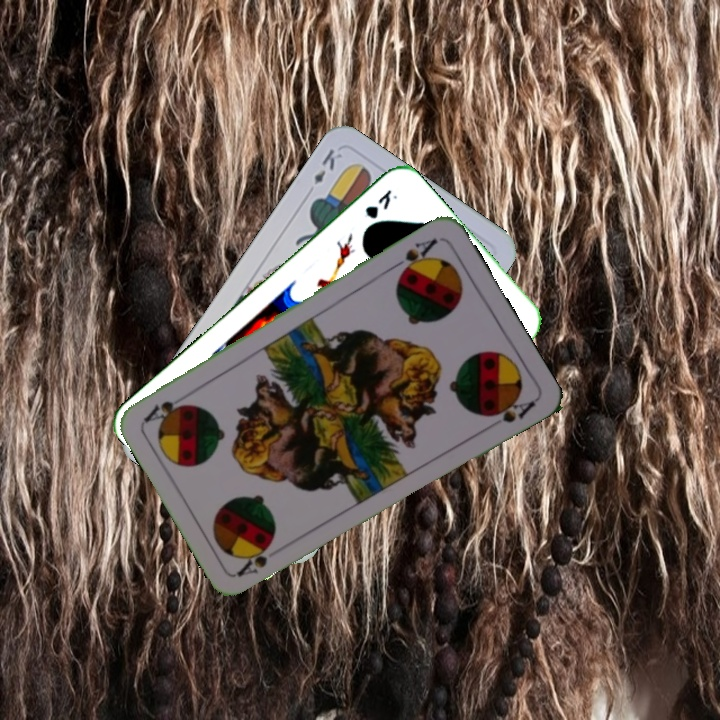EK: (309, 145, 345, 187)
GK: (359, 185, 401, 222)
SA: (388, 234, 441, 279), (233, 542, 273, 580)
